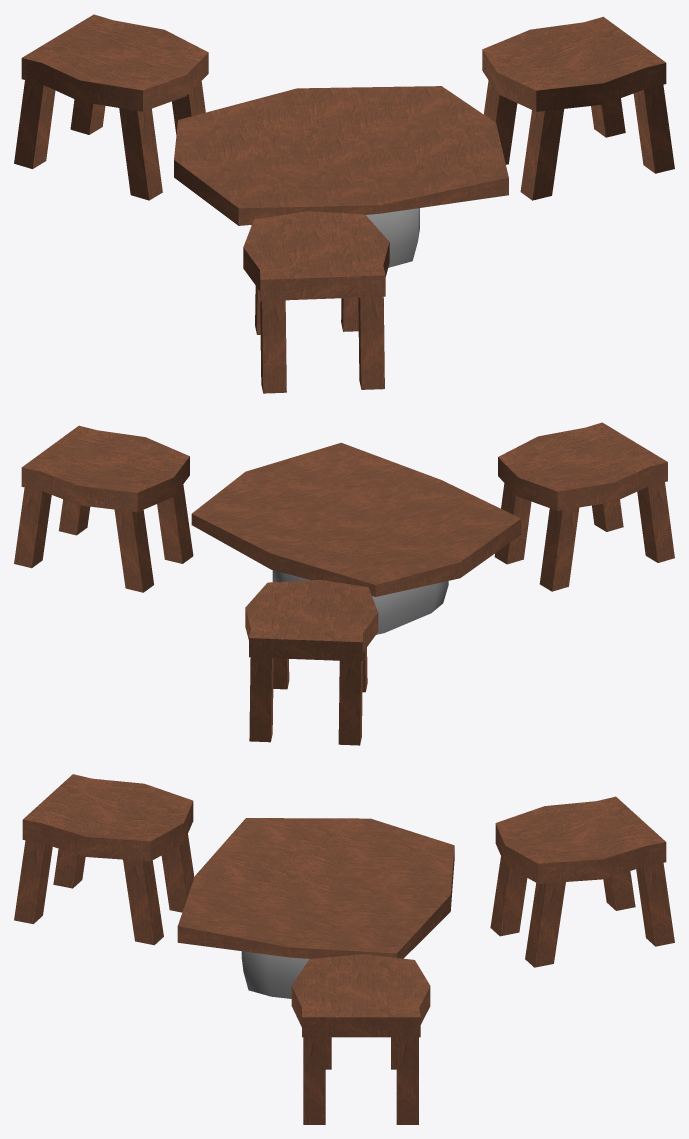
The model's file is masa_sandalye.obj.
3 renders of one model, top to bottom at view 1: azimuth 30°, elevation 25°; view 2: azimuth 150°, elevation 25°; view 3: azimuth 270°, elevation 25°, orthographic. The views are drawn at different scales.
Parts seen in each view (by area): view 1: Box019, Box007, Box013, Box001, Box010, Box018, Box009, Box017, Box003, Box005, Box020, Box016 (+4 smaller); view 2: Box019, Box001, Box013, Box007, Box020, Box004, Box016, Box003, Box015, Box009, Box011, Box018 (+4 smaller); view 3: Box019, Box007, Box001, Box013, Box012, Box006, Box011, Box005, Box020, Box015, Box017, Box010 (+3 smaller).
Part boxes in pixels (x1,y1,x2,y2): Box019: (174, 86, 508, 225); Box007: (21, 14, 208, 111); Box013: (482, 16, 666, 111); Box001: (243, 211, 389, 301); Box010: (119, 108, 162, 200); Box018: (520, 109, 564, 200); Box009: (14, 80, 55, 168); Box017: (633, 85, 674, 173); Box003: (260, 296, 286, 393); Box005: (358, 296, 384, 389); Box020: (251, 208, 419, 267); Box016: (483, 80, 517, 164); Box019: (191, 442, 521, 596); Box001: (498, 422, 667, 510); Box013: (21, 425, 189, 512); Box007: (245, 579, 378, 661); Box020: (272, 570, 448, 634); Box004: (539, 507, 579, 591); Box016: (114, 509, 153, 592); Box003: (637, 482, 674, 562); Box015: (14, 487, 51, 568); Box009: (338, 659, 362, 745); Box011: (249, 657, 273, 742); Box018: (157, 484, 193, 563); Box019: (177, 818, 454, 958); Box007: (495, 796, 666, 883); Box001: (22, 774, 193, 861); Box013: (291, 954, 430, 1037); Box012: (525, 882, 565, 967); Box006: (123, 859, 163, 945); Box011: (636, 862, 674, 946); Box005: (14, 840, 52, 924); Box020: (241, 951, 308, 998); Box015: (396, 1037, 418, 1124); Box017: (303, 1037, 325, 1124); Box010: (490, 856, 527, 936).
Bounding box in the file's own units: 106 × 20.51 × 119.
